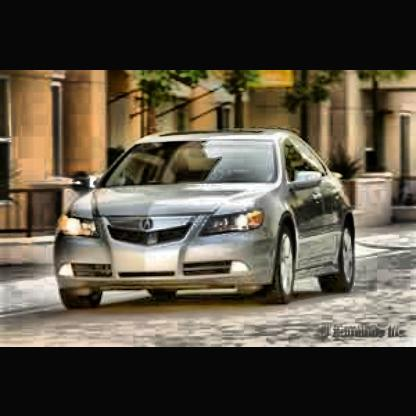Acura RL Sedan 2012: (50, 126, 362, 311)
